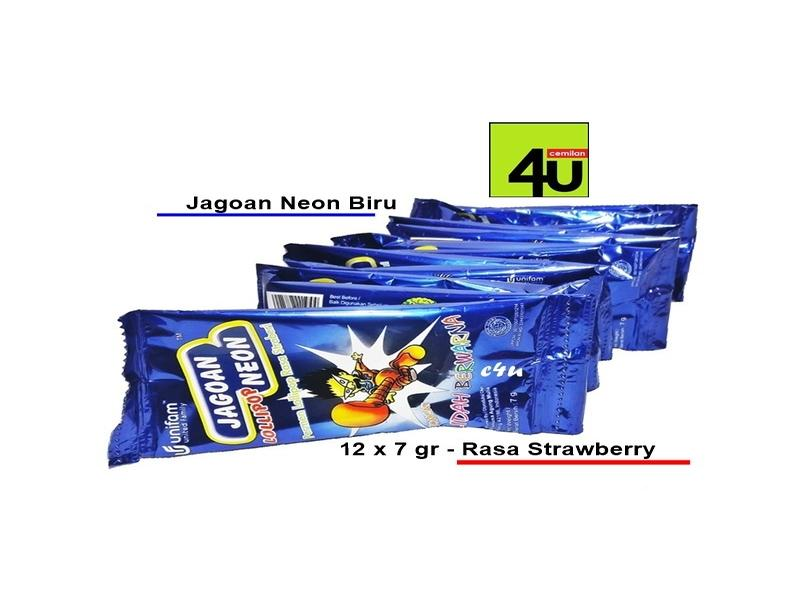jagoan_neon: (109, 298, 594, 469)
